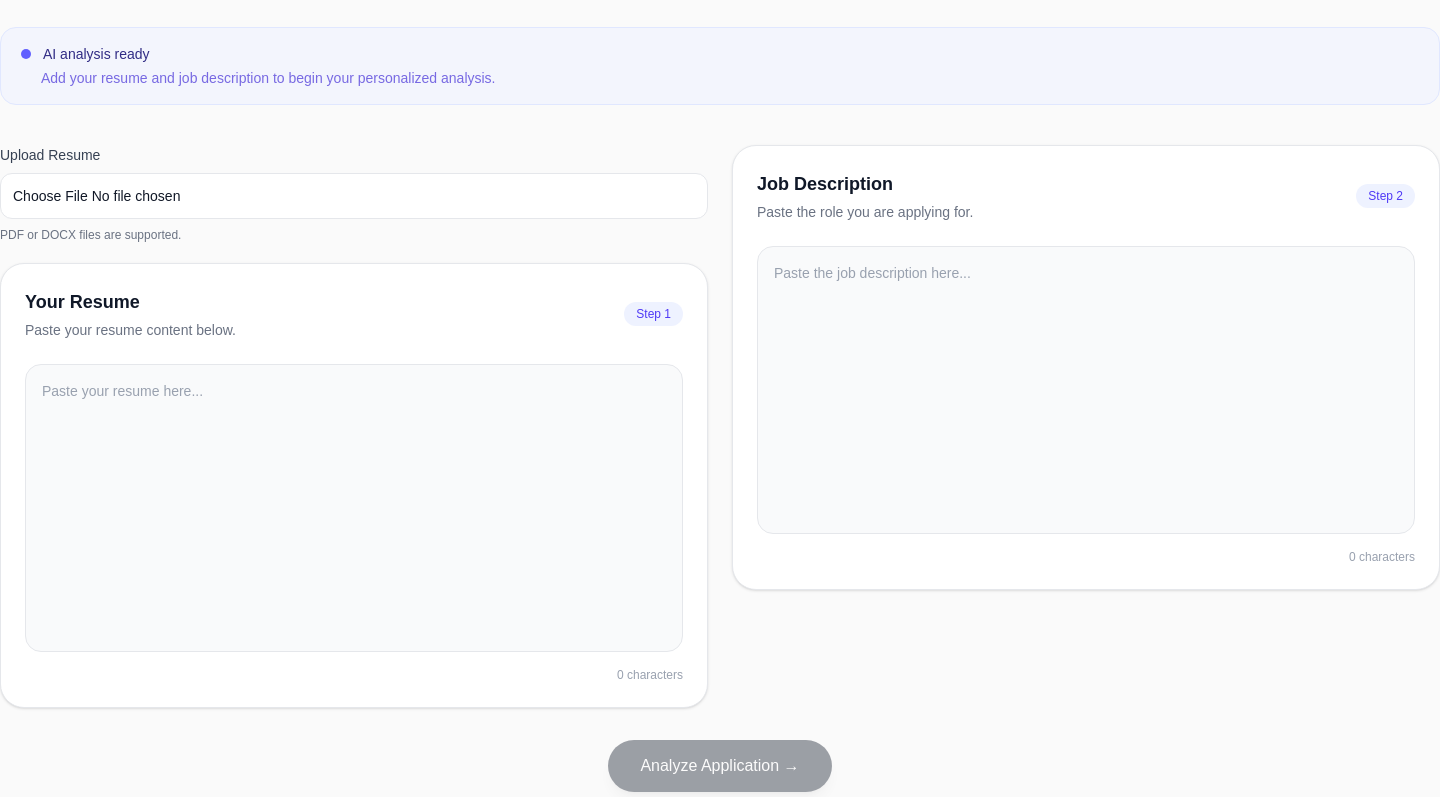
Test: ApplicationForm › shows an error message when analysis fails
Step 1. Type "React developer with TypeScript experience." into the text box with placeholder "Paste your resume here..." → point(354, 508), box [25, 364, 683, 652]
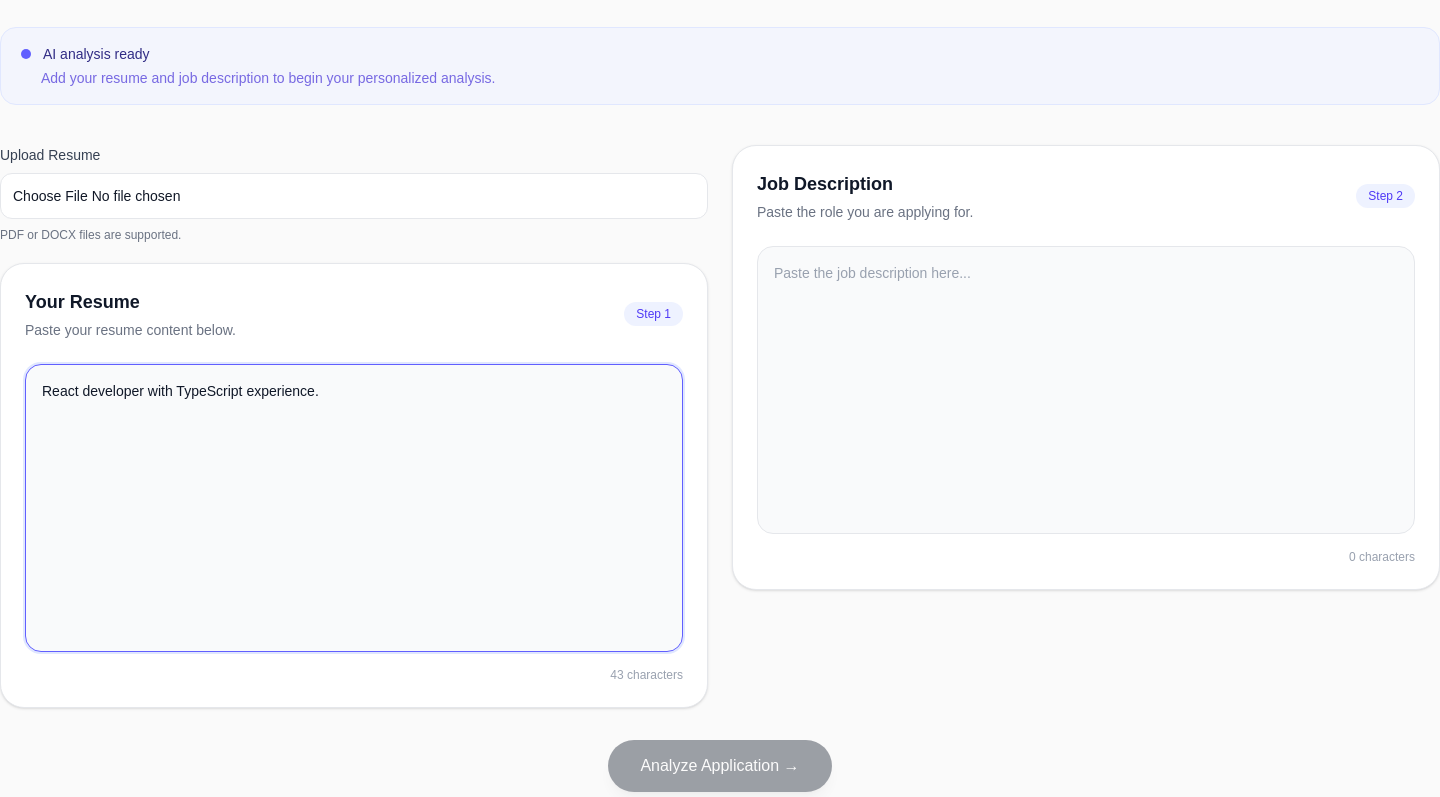
Step 2. Type "Looking for a React developer." into the text box with placeholder "Paste the job description here..." → point(1086, 390), box [757, 246, 1415, 534]
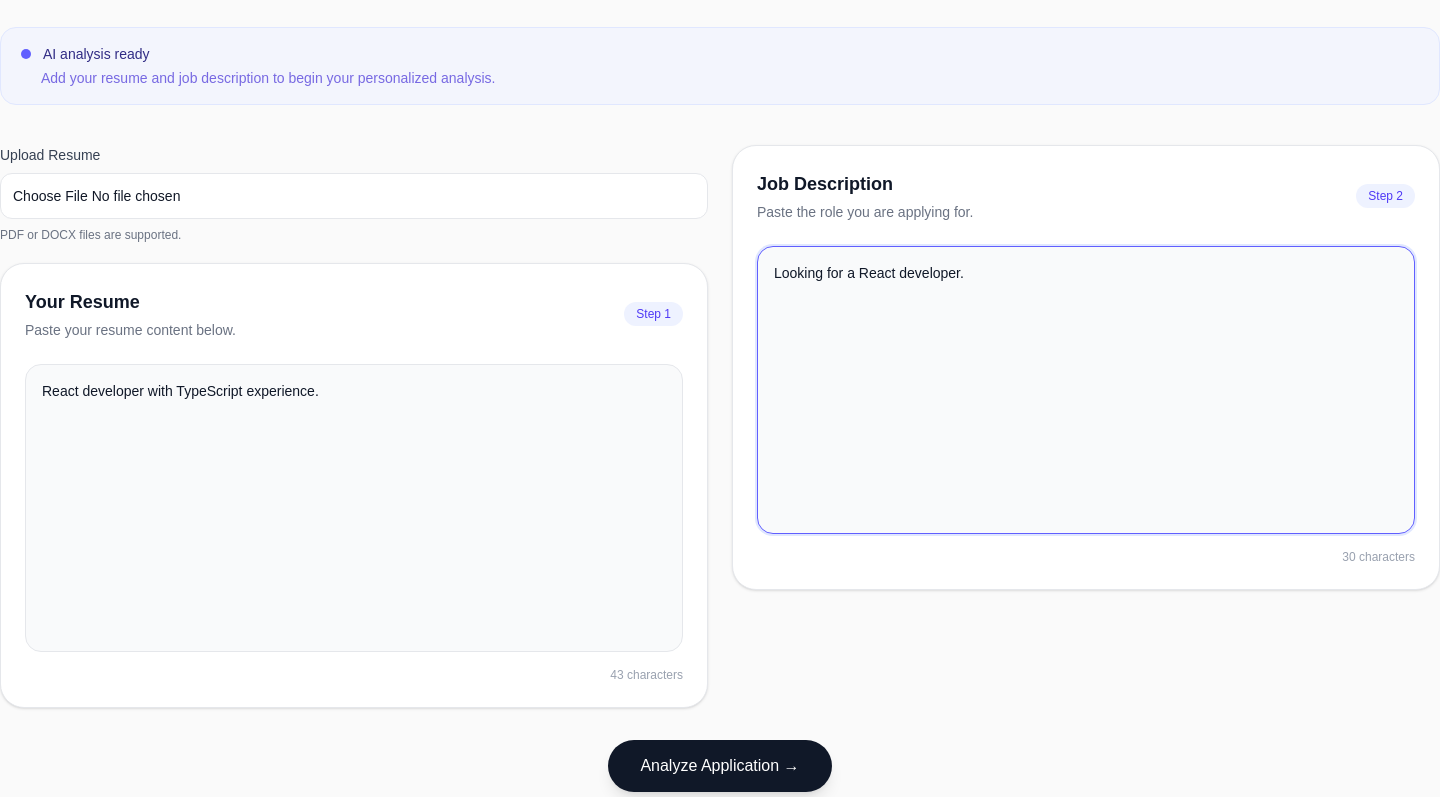
Step 3. Click the button "Analyze Application →" → point(720, 766), box [608, 740, 832, 792]
(page scrolled)
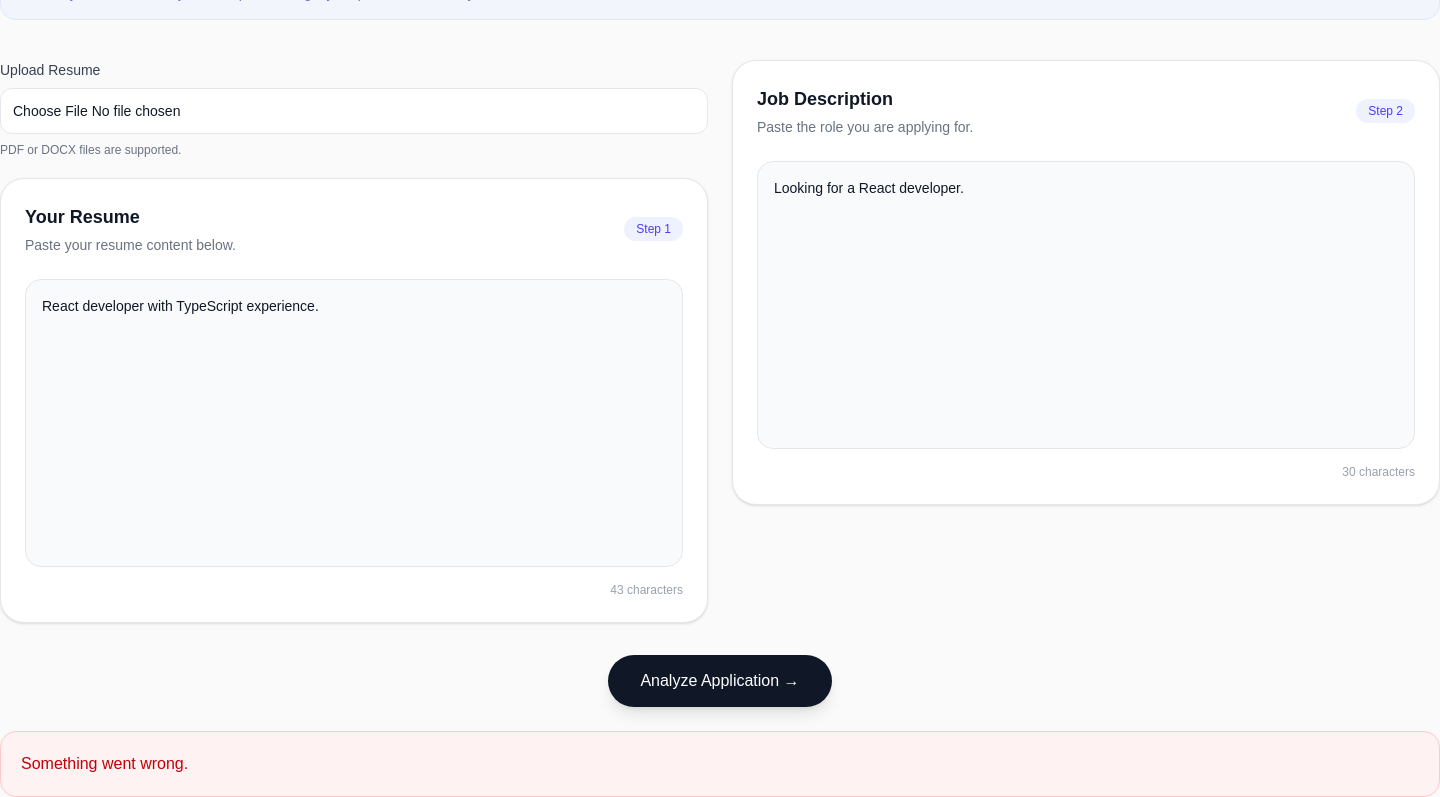
expect the text "Something went wrong." is shown: met, box [0, 731, 1439, 796]
